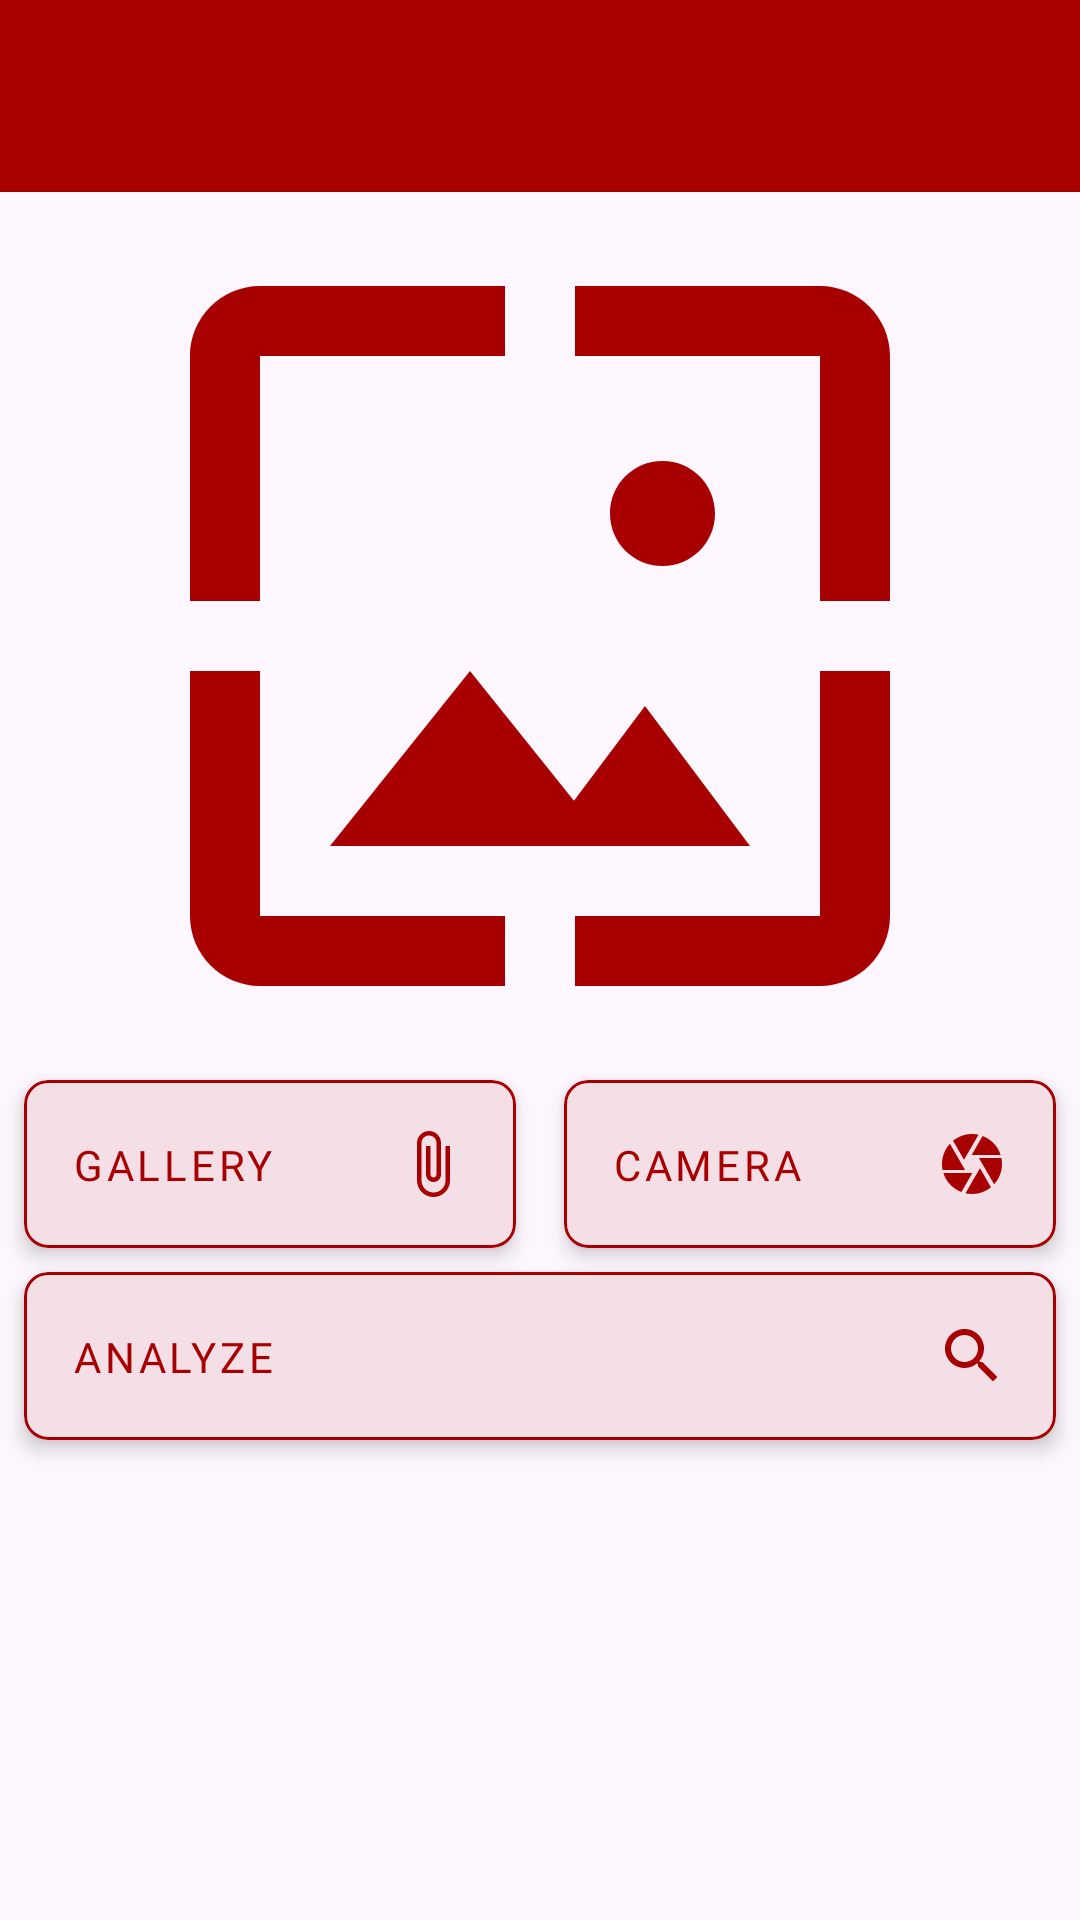

Icon bounding boxes for this 1080w x 1920h phone screenshot, format (x1, y1, x2, y2):
analyze: (945, 1329, 997, 1381)
